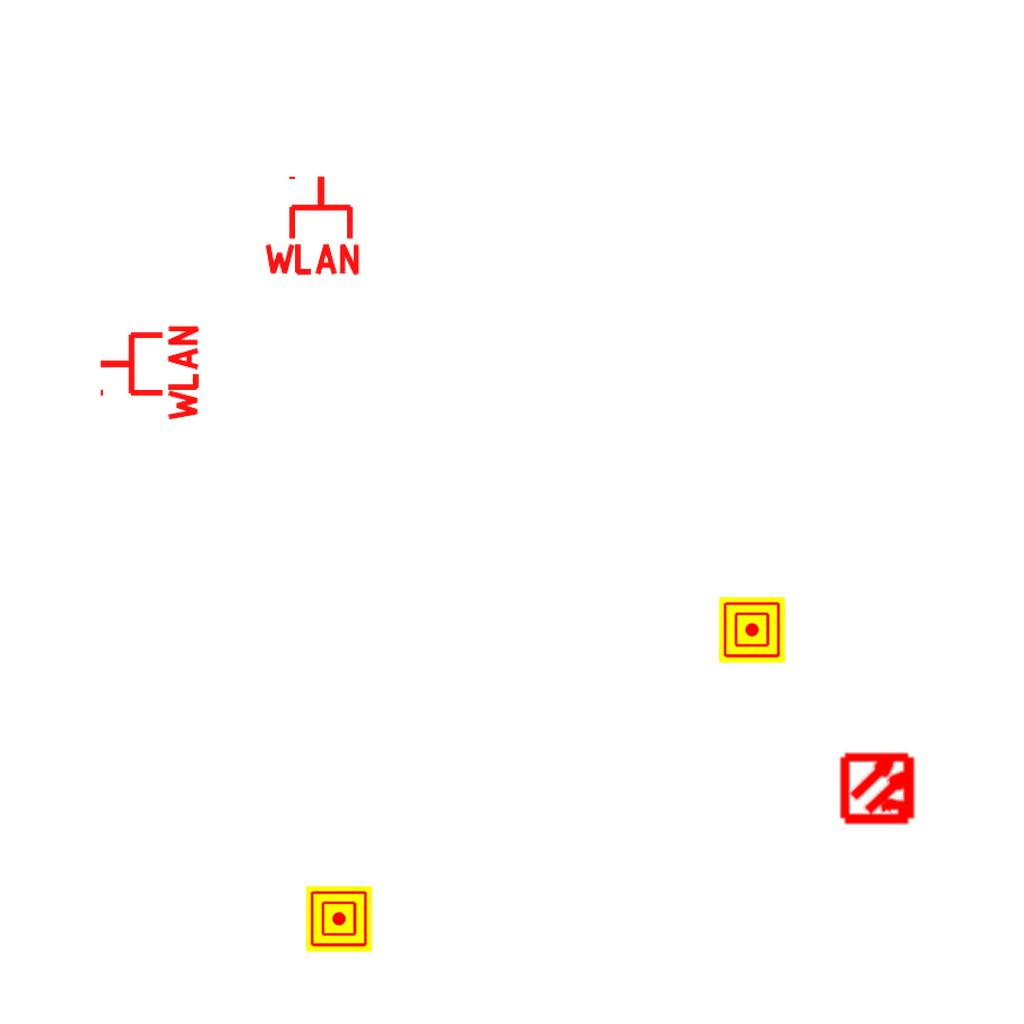NAM-Nichtautomatischer_Melder: (306, 886, 372, 952), (719, 597, 785, 663)
OT_Multisensormelder_(Kombination_RMO_WMD): (823, 732, 936, 845)
WLAN: (96, 321, 201, 425), (260, 172, 364, 277)
